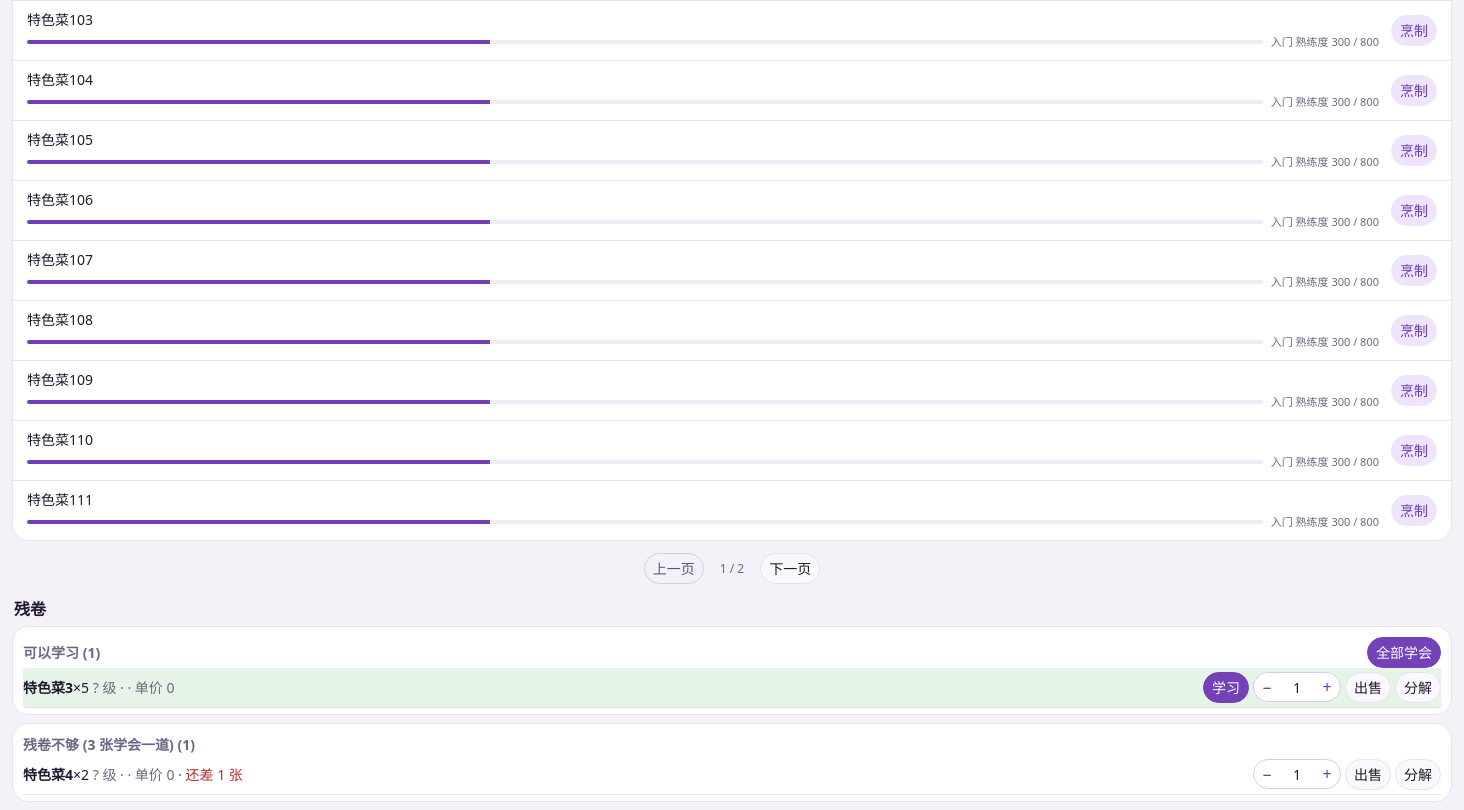
特色菜分页（界面改版 P7：249 道一次全列出来整页三万像素高） › 已学每页 12 道，可以翻页
(page scrolled)
Check: the element with test id "mc-pager" shows "1 / 2", box [720, 560, 744, 577]
Click the button "下一页" at [790, 569], box [760, 553, 820, 584]
(page scrolled)
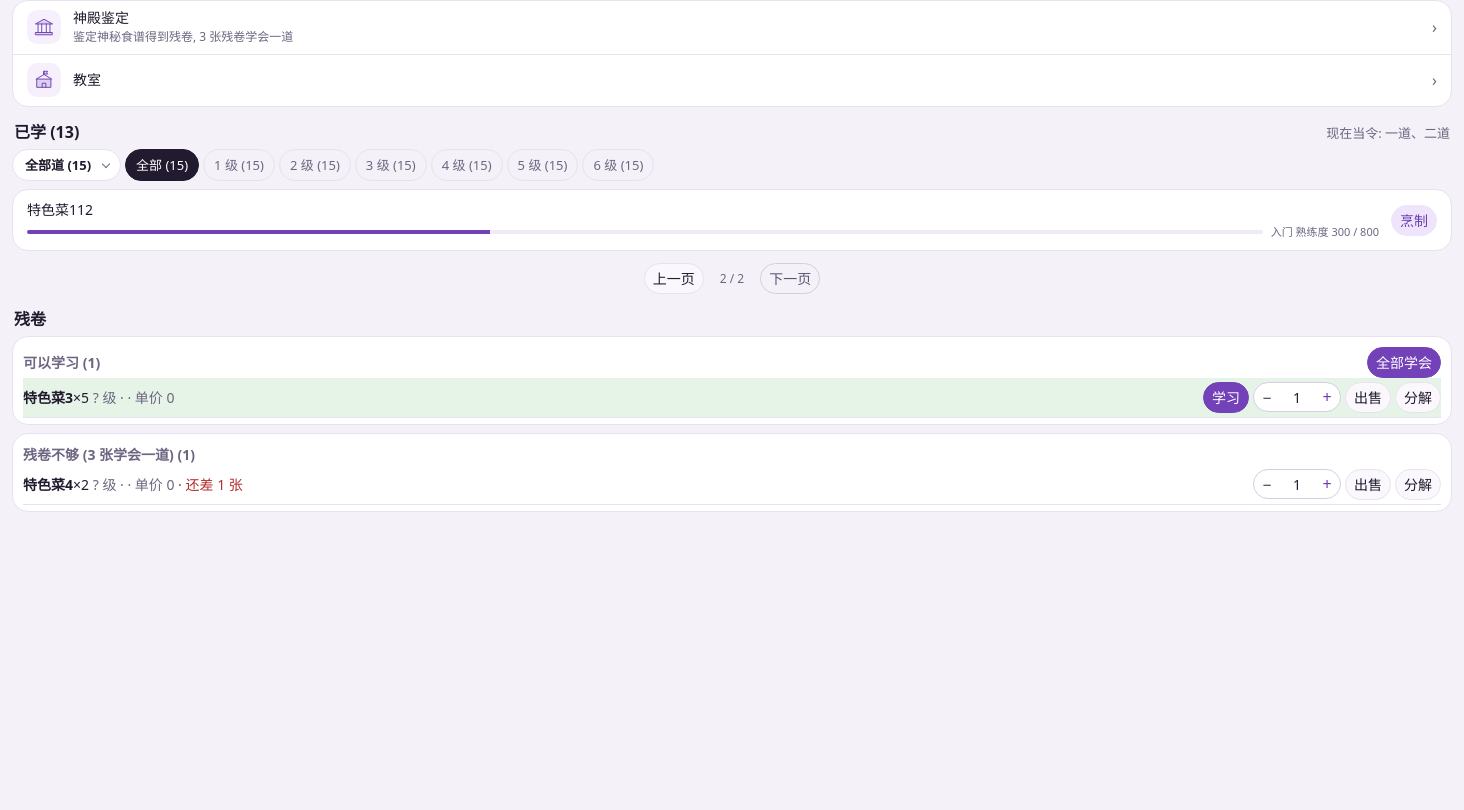
Check: the element with test id "mc-pager" shows "2 / 2", box [720, 270, 744, 287]
